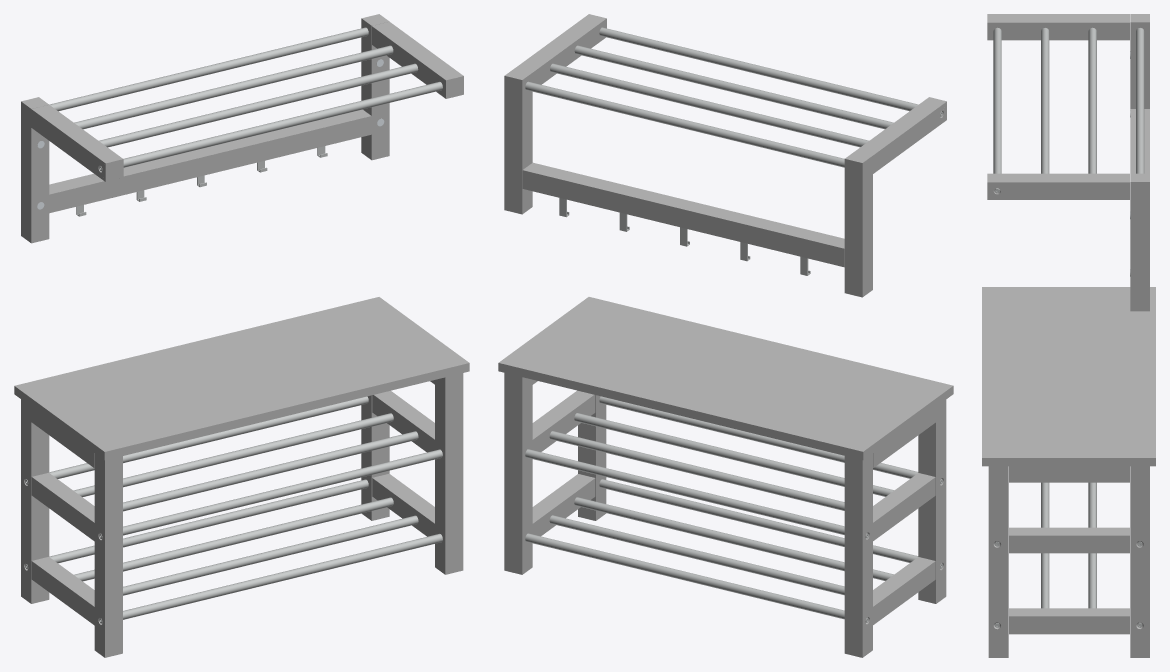
Rendered from hanger_chusig.glb.
3 renders of one model, left to right at view 1: azimuth 30°, elevation 25°; view 2: azimuth 150°, elevation 25°; view 3: azimuth 270°, elevation 25°, orthographic. The views are drawn at different scales.
Visible parts, largest first — view 1: down, Cylinder, up, Cylinder.001; view 2: down, Cylinder, up, Cylinder.001, cage; view 3: down, up, Cylinder.001, Cylinder.
Part boxes in pixels (<box>): down: <box>14,297,469,657</box>; Cylinder: <box>49,396,442,619</box>; up: <box>21,14,463,243</box>; Cylinder.001: <box>49,27,442,167</box>; down: <box>498,297,953,657</box>; Cylinder: <box>525,396,918,619</box>; up: <box>504,14,946,297</box>; Cylinder.001: <box>525,27,918,167</box>; cage: <box>559,198,810,275</box>; down: <box>982,287,1155,657</box>; up: <box>987,14,1149,311</box>; Cylinder.001: <box>993,27,1144,173</box>; Cylinder: <box>1041,482,1096,608</box>.
Size of the model in its own units: 4.36 by 5.66 by 1.87.
Materials: 1 (1 with a texture image).
